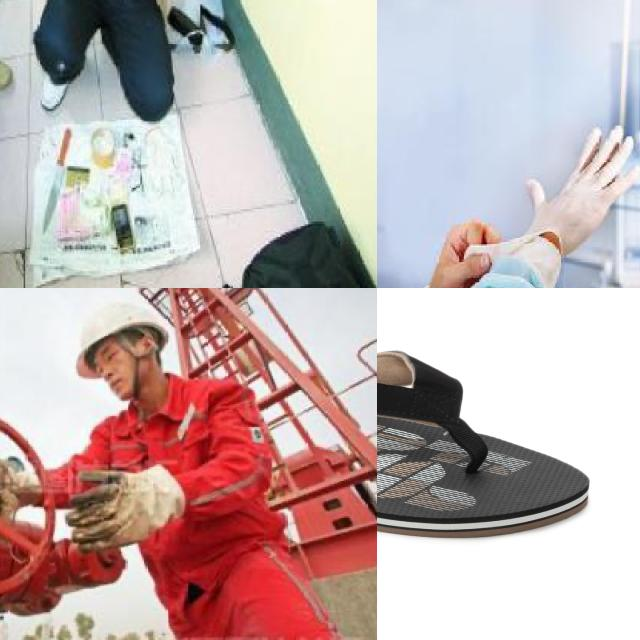No_Ear-Protection: (142, 335, 154, 355)
No_Glasses: (93, 342, 123, 374)
Sandals: (377, 342, 592, 540)
face_nomask: (103, 353, 134, 401)
hand_glove: (521, 125, 640, 247), (67, 465, 184, 548)
hand_noglove: (422, 216, 501, 288)
head_helmet: (76, 303, 168, 378)
person: (377, 0, 636, 288), (9, 0, 223, 137)
shoes: (0, 55, 16, 93)
